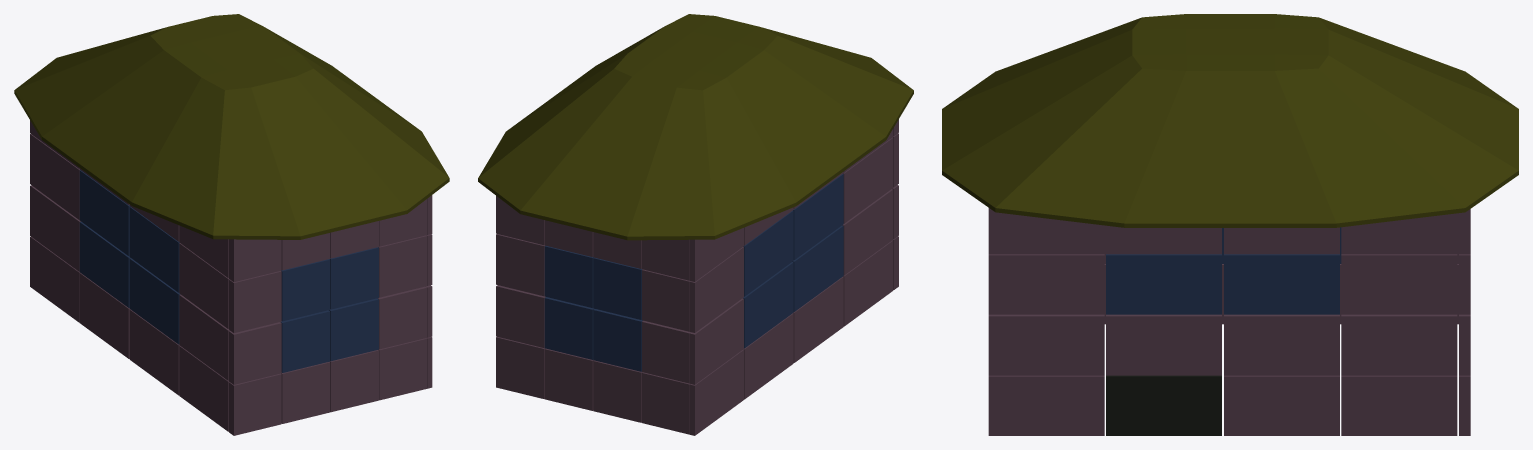
Rendered from house02.fbx.
3 renders of one model, left to right at view 1: azimuth 30°, elevation 25°; view 2: azimuth 150°, elevation 25°; view 3: azimuth 270°, elevation 25°, orthographic. The views are drawn at different scales.
Visible parts, largest first — view 1: Cube.031; view 2: Cube.031; view 3: Cube.031.
Part boxes in pixels (bbox=[...]): Cube.031: bbox=[14, 14, 449, 435]; Cube.031: bbox=[478, 14, 913, 435]; Cube.031: bbox=[942, 14, 1518, 435].
Size of the model in its own units: 700 by 660 by 1020.
